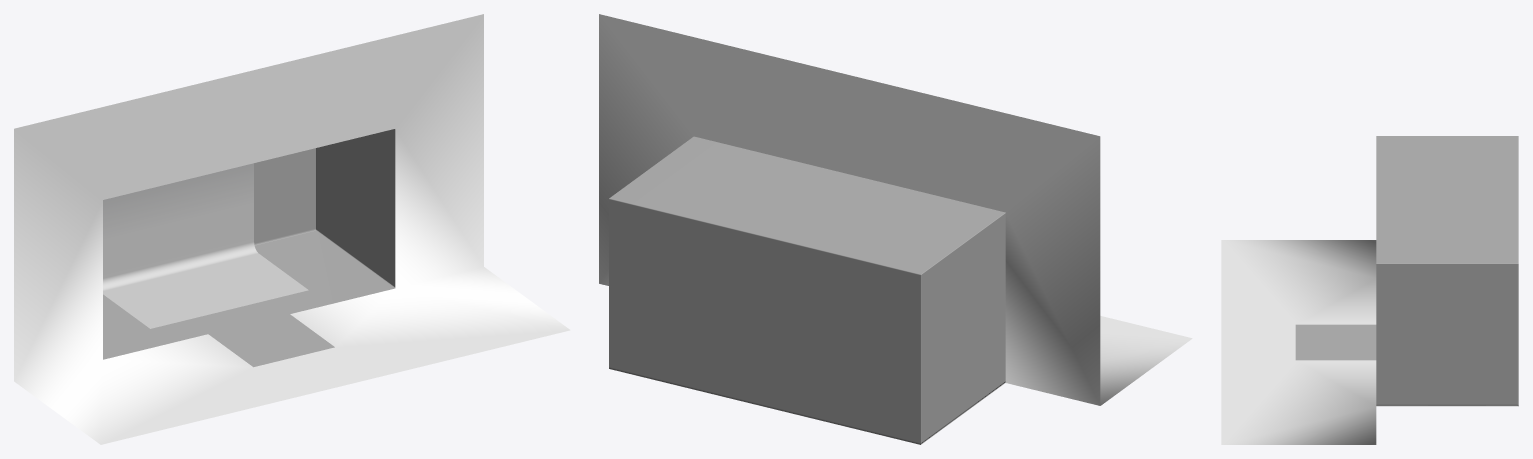
The model's file is a_sch_studio01.gltf.
3 views of the same model, side by side, from view 1: azimuth 30°, elevation 25°; view 2: azimuth 150°, elevation 25°; view 3: azimuth 270°, elevation 25° (orthographic). The views are drawn at different scales.
Parts seen in each view (by area): view 1: um_a_sch_studio01_model_a_sch_studio01_modelShape:a_sch_stud (×3); view 2: um_a_sch_studio01_model_a_sch_studio01_modelShape:a_sch_stud (×2); view 3: um_a_sch_studio01_model_a_sch_studio01_modelShape:a_sch_stud (×2).
Boxes of the visible parts, left/top/right/bottom form: um_a_sch_studio01_model_a_sch_studio01_modelShape:a_sch_stud (×3): left=14, top=14, right=570, bottom=444; um_a_sch_studio01_model_a_sch_studio01_modelShape:a_sch_stud (×2): left=599, top=14, right=1192, bottom=444; um_a_sch_studio01_model_a_sch_studio01_modelShape:a_sch_stud (×2): left=1221, top=136, right=1518, bottom=444.
Size of the model in its own units: 20.38 by 10.47 by 12.48.
Materials: 3 (2 with a texture image).
